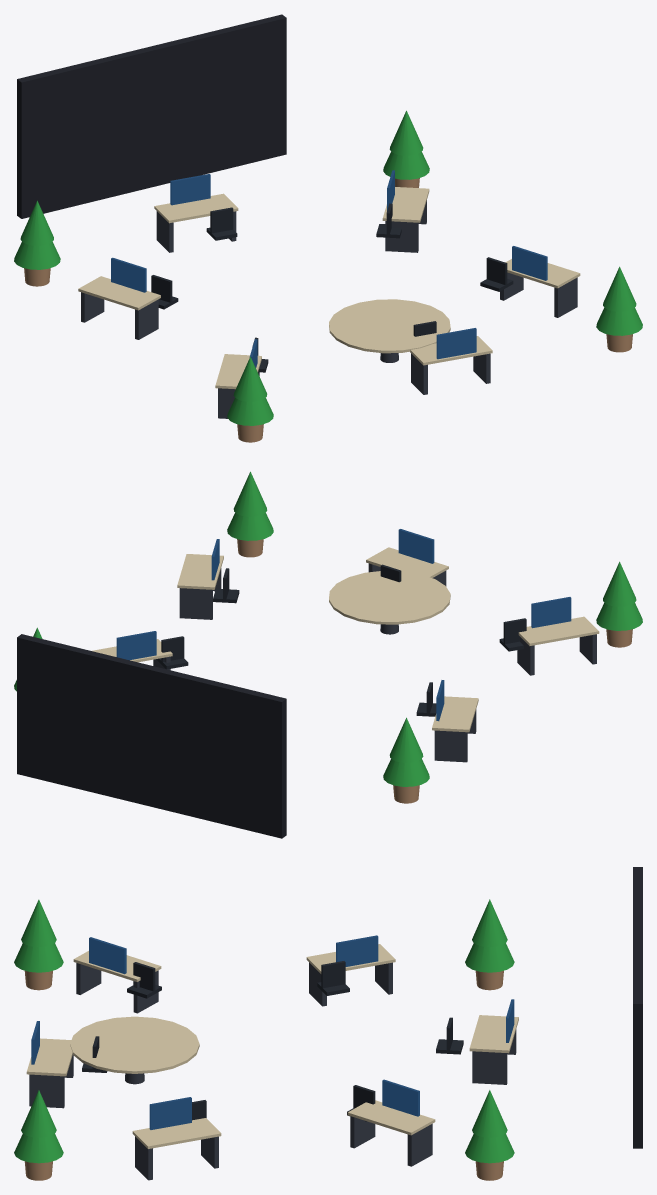
3 renders of one model, top to bottom at view 1: azimuth 30°, elevation 25°; view 2: azimuth 150°, elevation 25°; view 3: azimuth 270°, elevation 25°, orthographic. The views are drawn at different scales.
Parts seen in each view (by area): view 1: brand_wall, meeting_table, desk_3, desk_4, desk_0, desk_1, desk_5, plant_1, plant_2, plant_0, plant_3, desk_2 (+3 smaller); view 2: brand_wall, meeting_table, desk_2, desk_3, desk_0, plant_0, plant_2, plant_1, desk_1, desk_5, chair_5, chair_2; view 3: meeting_table, desk_5, desk_0, desk_4, brand_wall, desk_1, desk_2, desk_3, plant_0, plant_2, plant_3, plant_1 (+3 smaller).
Boxes of the visible parts, x1,y1,x2,y2 form: brand_wall: (17, 14, 286, 218); meeting_table: (329, 299, 450, 362); desk_3: (78, 257, 160, 339); desk_4: (154, 174, 238, 252); desk_0: (500, 246, 580, 317); desk_1: (410, 328, 492, 394); desk_5: (382, 170, 429, 252); plant_1: (227, 356, 273, 442); plant_2: (14, 200, 60, 286); plant_0: (596, 266, 642, 352); plant_3: (383, 110, 429, 187); desk_2: (215, 339, 261, 418); brand_wall: (17, 634, 286, 838); meeting_table: (329, 571, 450, 634); desk_2: (517, 597, 599, 675); desk_3: (432, 680, 478, 762); desk_0: (177, 539, 223, 619); plant_0: (227, 471, 273, 557); plant_2: (383, 717, 429, 803); plant_1: (596, 561, 642, 647); desk_1: (366, 529, 448, 586); desk_5: (92, 631, 172, 670); chair_5: (157, 636, 188, 669); chair_2: (499, 618, 526, 651); meeting_table: (70, 1016, 199, 1084); desk_5: (347, 1079, 435, 1166); desk_0: (132, 1097, 221, 1180); desk_4: (469, 999, 518, 1084); brand_wall: (633, 867, 642, 1148); desk_1: (26, 1021, 73, 1108); desk_2: (73, 937, 161, 1013); desk_3: (306, 935, 395, 1006); plant_0: (14, 1090, 63, 1180); plant_2: (465, 899, 514, 990); plant_3: (465, 1090, 514, 1180); plant_1: (14, 899, 63, 990).
Size of the model in its own units: 10.05 by 3.2 by 12.63.
